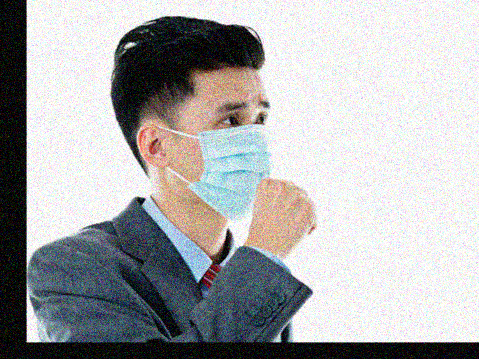with_mask: (170, 93, 270, 218)
